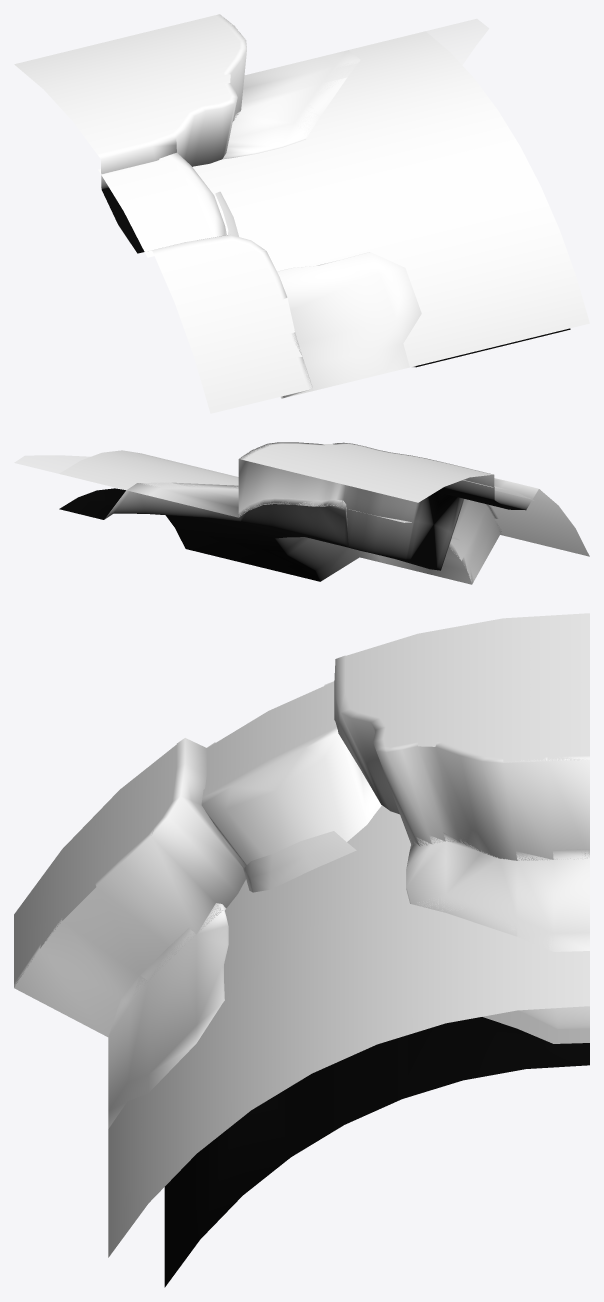
The model's file is grd_Mse_e_R_1.dae.
3 views of the same model, one above another, from view 1: azimuth 30°, elevation 25°; view 2: azimuth 150°, elevation 25°; view 3: azimuth 270°, elevation 25° (orthographic). The views are drawn at different scales.
Parts seen in each view (by area): view 1: grd_Mse_e_R_1; view 2: grd_Mse_e_R_1; view 3: grd_Mse_e_R_1.
Boxes of the visible parts, <box> form: grd_Mse_e_R_1: <box>14,14,589,413</box>; grd_Mse_e_R_1: <box>14,442,589,584</box>; grd_Mse_e_R_1: <box>14,613,589,1287</box>.
Bounding box in the file's own units: 576 × 308 × 423.
Materials: 10 (1 with a texture image).
